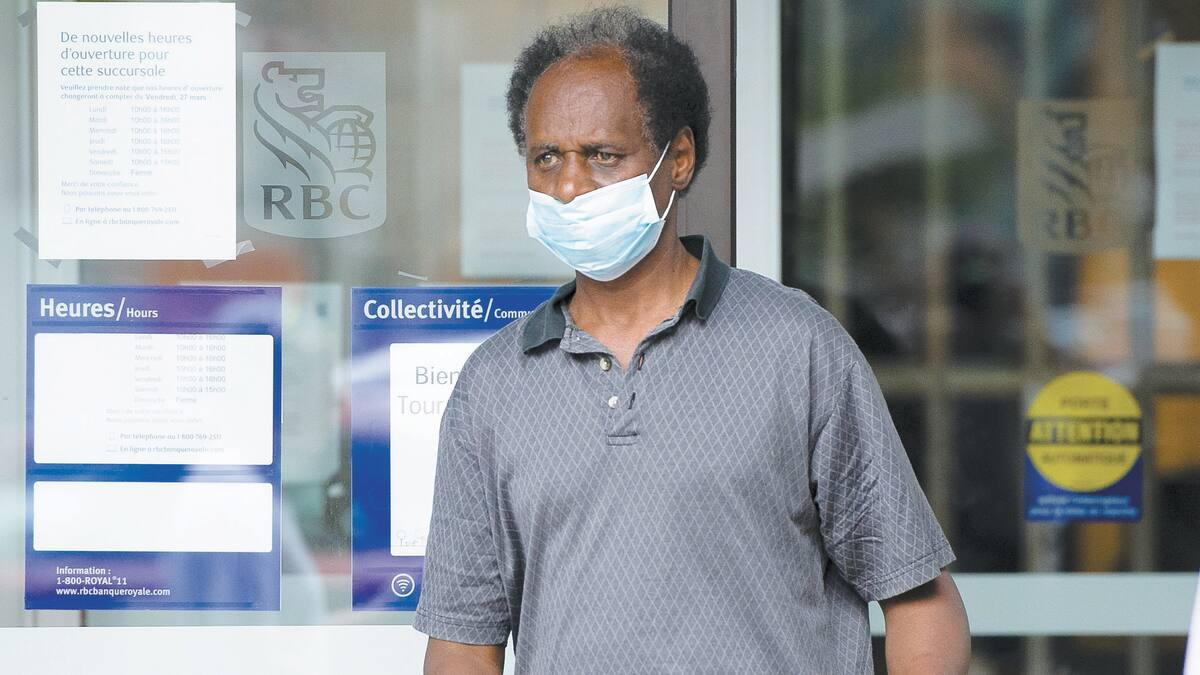with_incorrect_mask: (521, 110, 664, 267)
